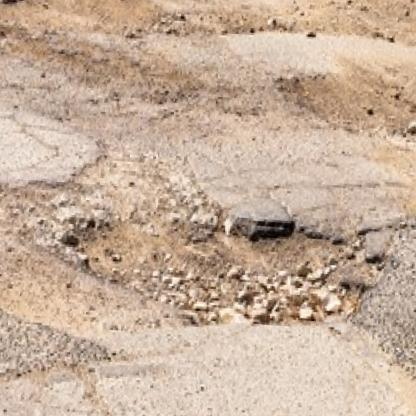pothole: (58, 203, 383, 334), (283, 72, 416, 142), (0, 15, 40, 66)
